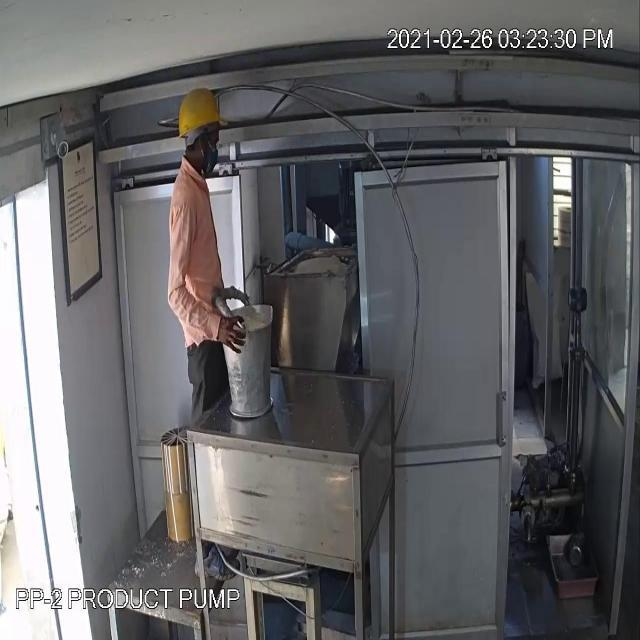hat: (175, 82, 233, 146)
